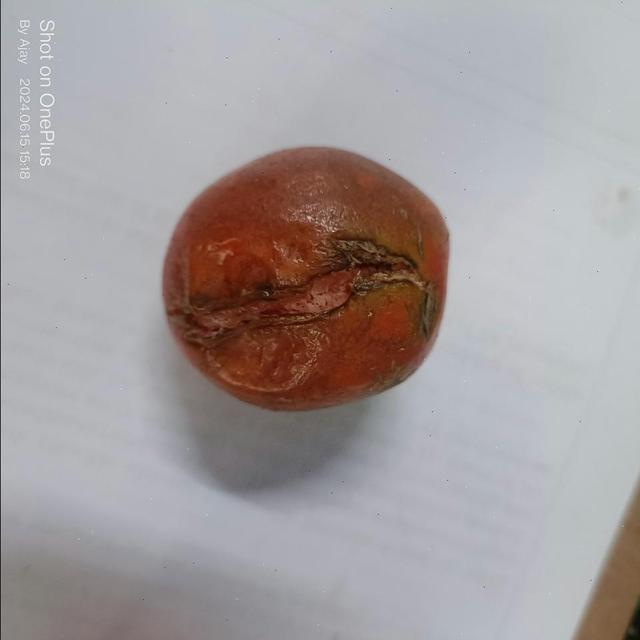Cracking Fruit: (171, 75, 288, 284)
